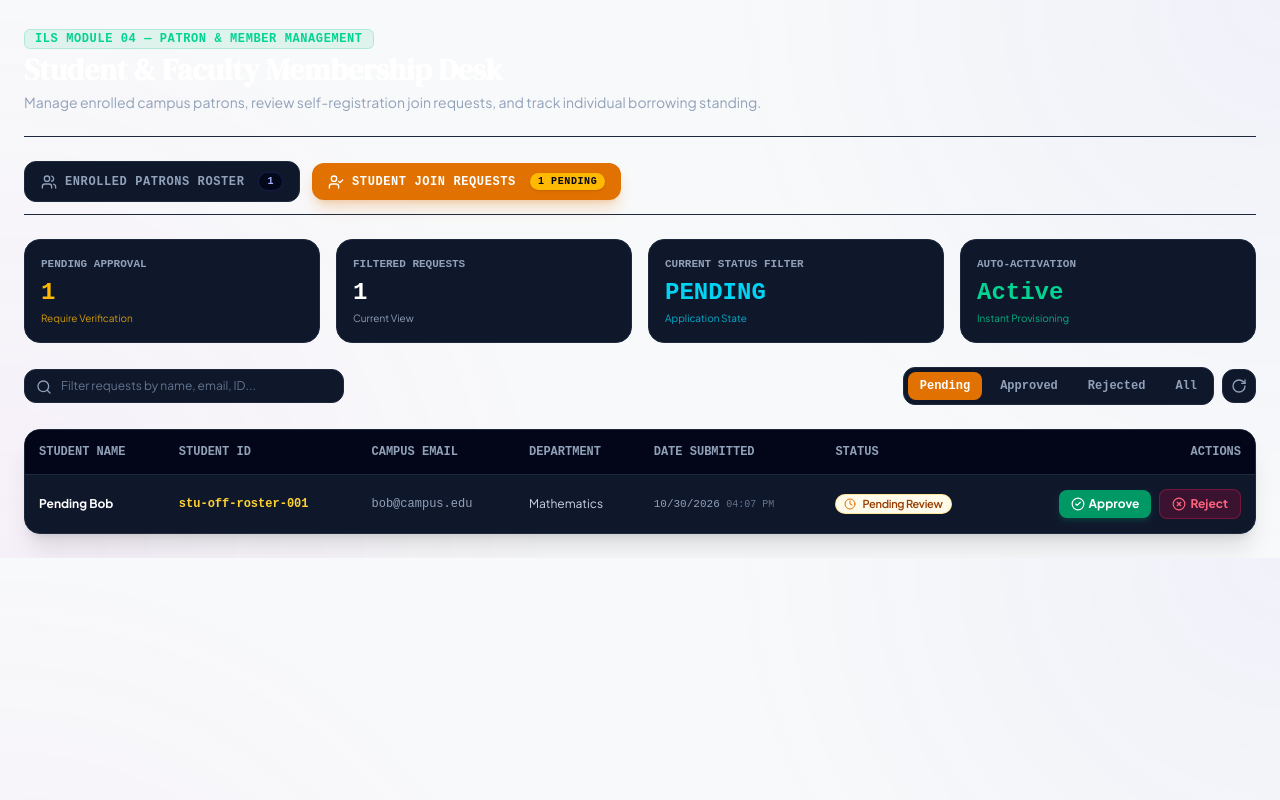
Test case: PatronsDesk - Student Join Requests Feature Suite › 5. rejects a student join request with required reason, closing modal and displaying toast
This screenshot has width=1280, height=800.
Expected: the text "Pending Bob" is shown, [39, 496, 113, 511]
Click the button with test id "reject-request-btn-req-1": (1200, 504) [1160, 489, 1241, 519]
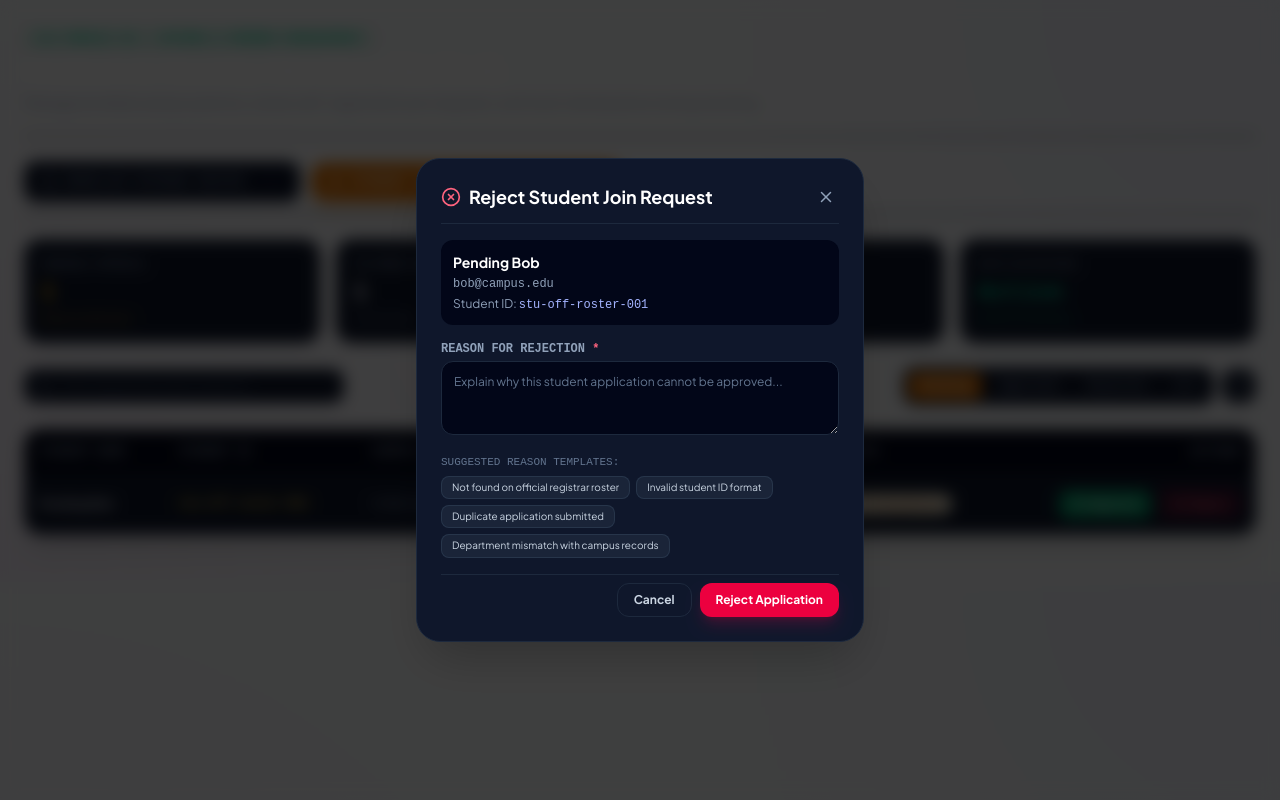
Click the button "Not found on official registrar roster": (536, 487) [441, 476, 630, 499]
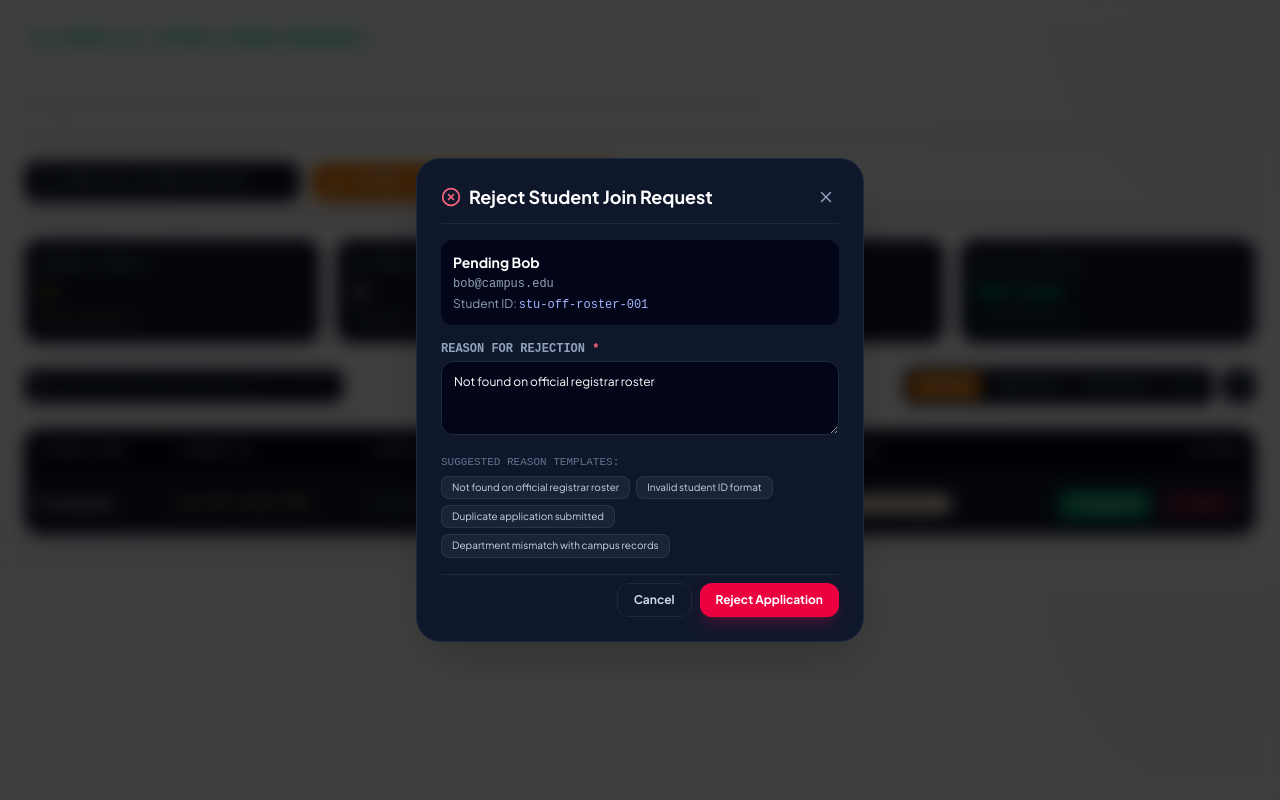
Now the text box with test id "reject-reason-textarea" holds "Not found on official registrar roster", box [441, 361, 839, 435]
# Submit rejection
Click the button with test id "confirm-reject-btn": (769, 600) [700, 583, 839, 617]
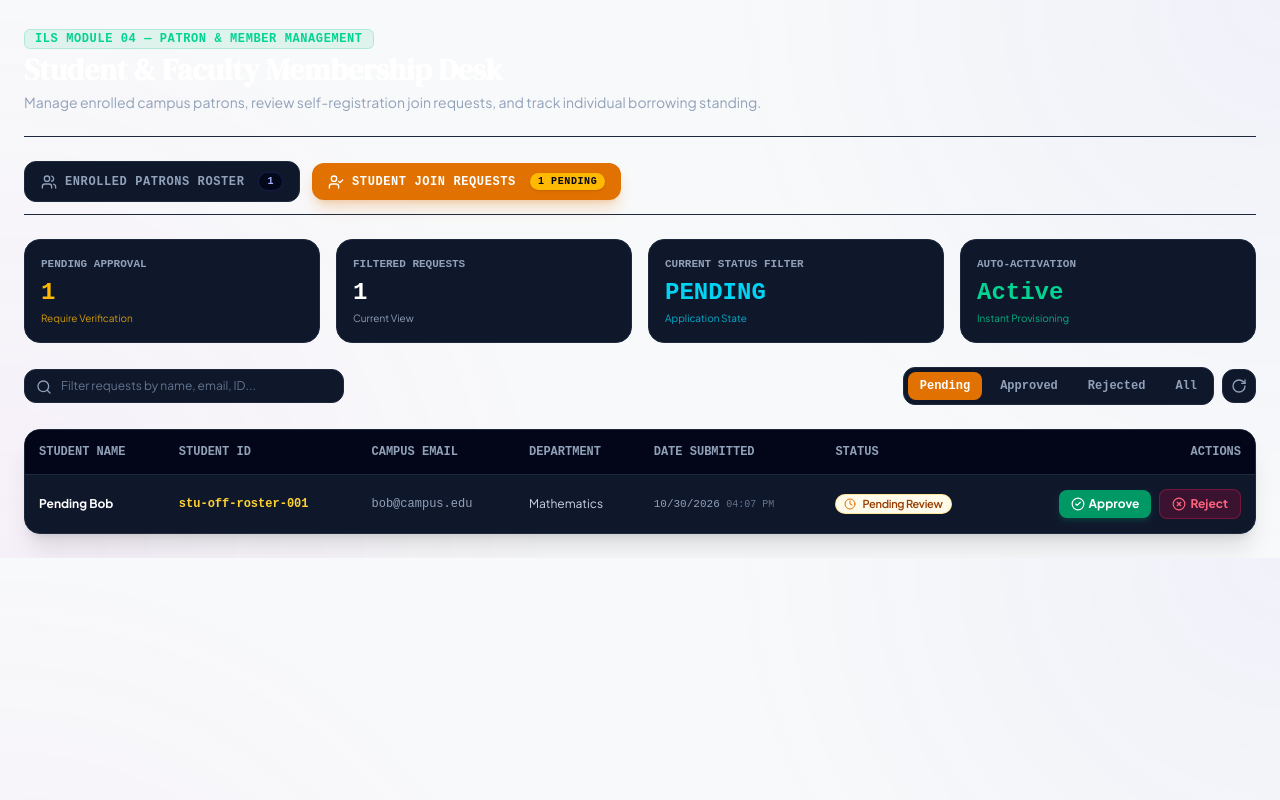
Now the heading "Reject Student Join Request" is gone
